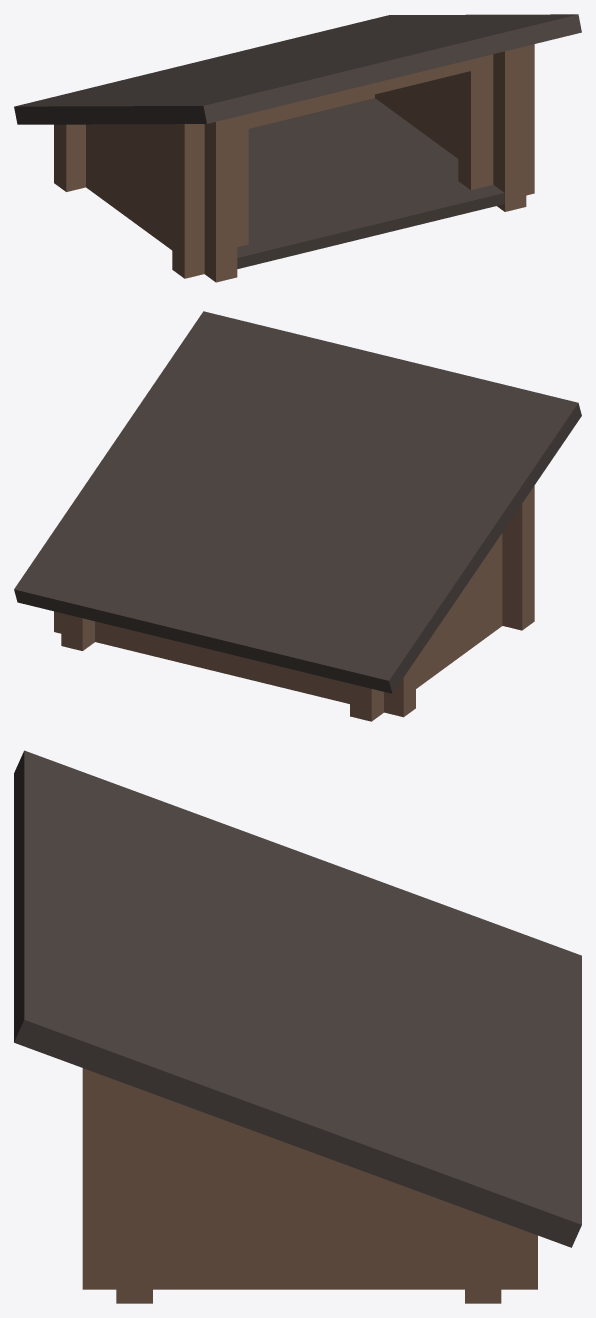
The model's file is Laavu.fbx.
3 renders of one model, top to bottom at view 1: azimuth 30°, elevation 25°; view 2: azimuth 150°, elevation 25°; view 3: azimuth 270°, elevation 25°, orthographic. The views are drawn at different scales.
Visible parts, largest first — view 1: Walls, Roof, Floor; view 2: Roof, Walls; view 3: Roof, Walls.
Boxes of the visible parts, bbox=[...] form: Walls: bbox=[54, 44, 534, 282]; Roof: bbox=[14, 14, 581, 124]; Floor: bbox=[237, 98, 504, 268]; Roof: bbox=[14, 311, 581, 693]; Walls: bbox=[54, 486, 534, 721]; Roof: bbox=[14, 750, 581, 1247]; Walls: bbox=[82, 1068, 537, 1303].
Size of the model in its own units: 350 by 177 by 312.
